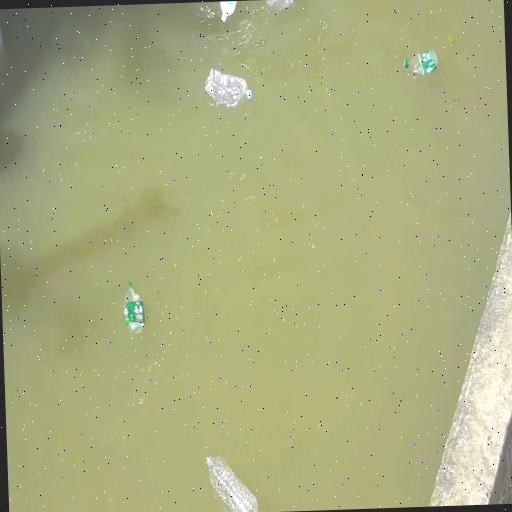plastic: (207, 457, 257, 511), (206, 69, 252, 107), (124, 282, 145, 340), (404, 50, 438, 75), (221, 1, 237, 22)
